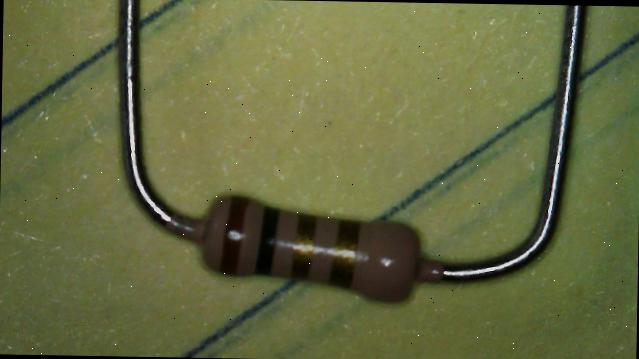black: (258, 207, 276, 274)
brown: (224, 191, 244, 275)
gold: (290, 210, 316, 280), (332, 216, 356, 290)
resistor: (158, 158, 452, 325)
